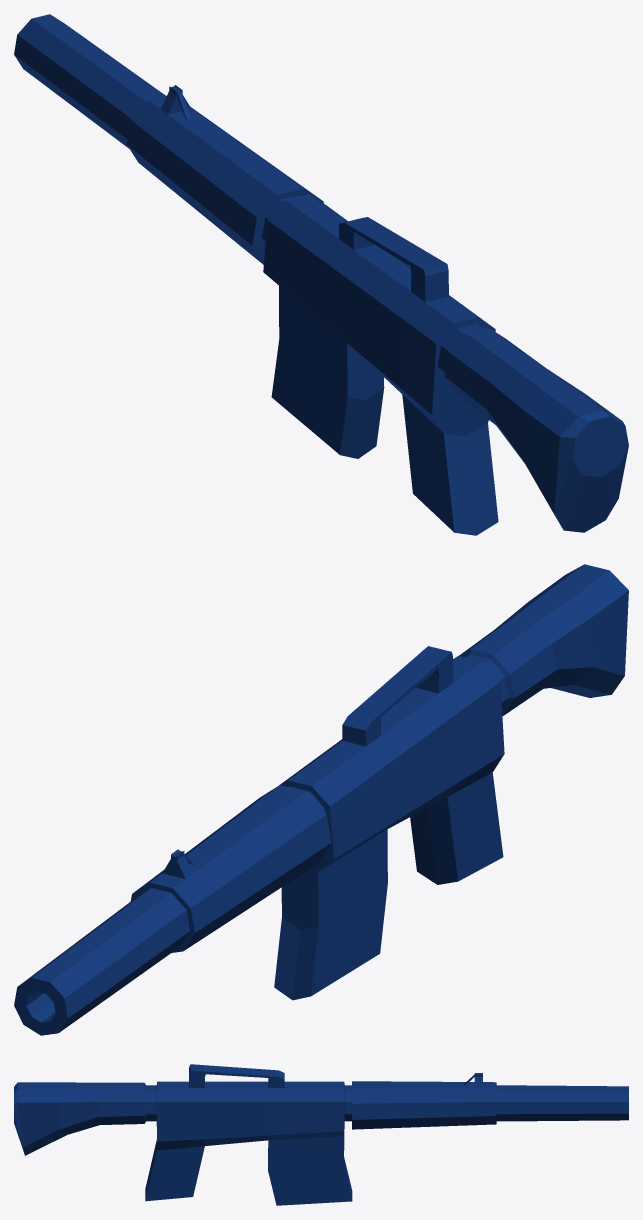
Rendered from rifle1.fbx.
3 renders of one model, top to bottom at view 1: azimuth 30°, elevation 25°; view 2: azimuth 150°, elevation 25°; view 3: azimuth 270°, elevation 25°, orthographic. The views are drawn at different scales.
Visible parts, largest first — view 1: Cylinder; view 2: Cylinder; view 3: Cylinder.
Part boxes in pixels (x1,y1,x2,y2): Cylinder: [14, 14, 628, 535]; Cylinder: [14, 564, 628, 1035]; Cylinder: [14, 1064, 628, 1205].
Size of the model in its own units: 263 by 825 by 3329.
